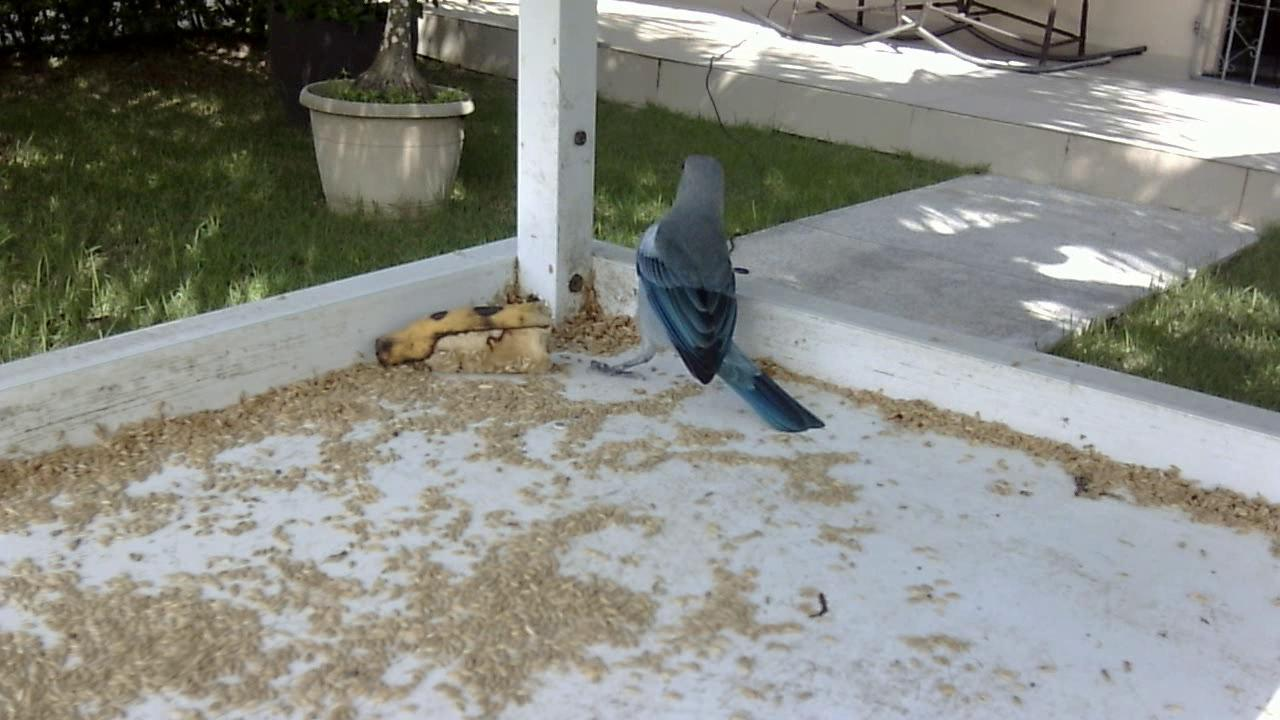sanhaco_da_amazonia: (575, 157, 829, 447)
